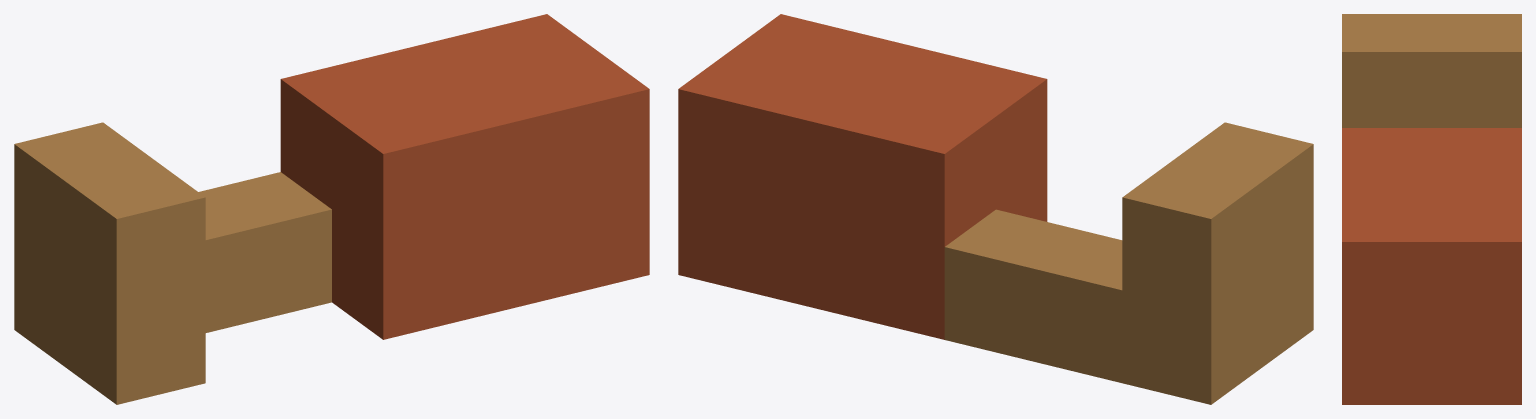
File: round_5_d_56x45.glb
3 views of the same model, side by side, from view 1: azimuth 30°, elevation 25°; view 2: azimuth 150°, elevation 25°; view 3: azimuth 270°, elevation 25° (orthographic). The views are drawn at different scales.
Visible parts, largest first — view 1: cartridge:cartridge-model; view 2: cartridge:cartridge-model; view 3: cartridge:cartridge-model.
Boxes of the visible parts, box(x1,y1,x2,y2) form: cartridge:cartridge-model: box(14, 14, 649, 404); cartridge:cartridge-model: box(678, 14, 1313, 404); cartridge:cartridge-model: box(1342, 14, 1521, 404).
Size of the model in its own units: 0.06 by 0.02 by 0.02.
